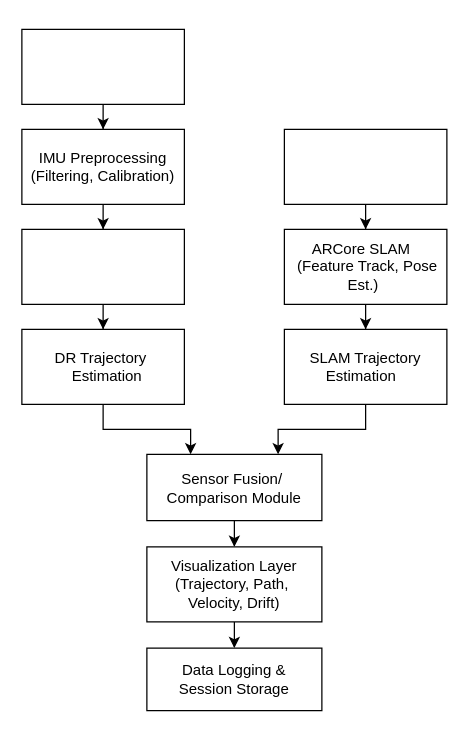
The diagram is 469 pixels wide and 733 high, and some of its shapes have lost their labels. Each missing label, with the box of its shape:
Dead Reckoning (Position Update, via Integration: (21, 228, 184, 304)
Smartphone Camera Feed: (283, 128, 447, 204)
Smartphone IMU ( Accelerometer, Gyro, etc: (21, 28, 184, 104)
